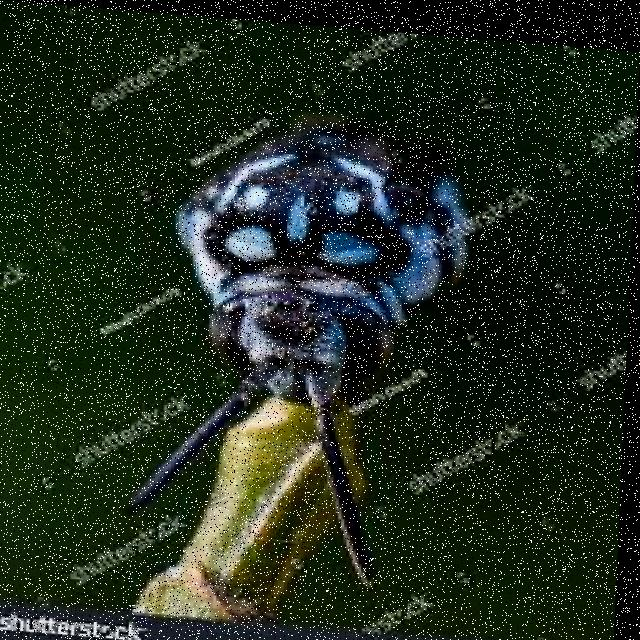Thyreus: (118, 87, 463, 591)
